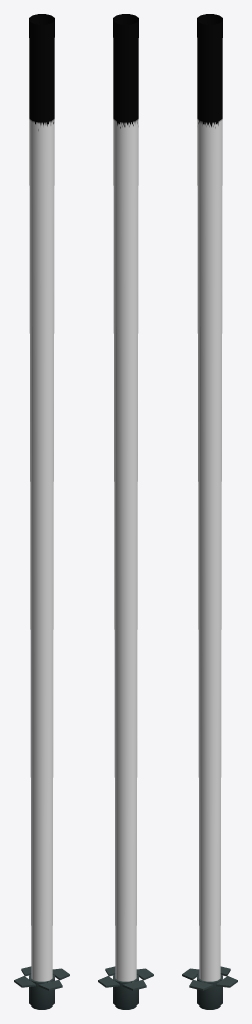
The model's file is Boss Light.fbx.
3 renders of one model, left to right at view 1: azimuth 30°, elevation 25°; view 2: azimuth 210°, elevation 25°; view 3: azimuth 330°, elevation 25°, orthographic.
Parts seen in each view (by area): view 1: Boss Light; view 2: Boss Light; view 3: Boss Light.
Part boxes in pixels (x1,y1,x2,y2): Boss Light: (14, 14, 69, 1009); Boss Light: (98, 14, 153, 1009); Boss Light: (182, 14, 237, 1009).
Bounding box in the file's own units: 203 × 4004 × 203.
